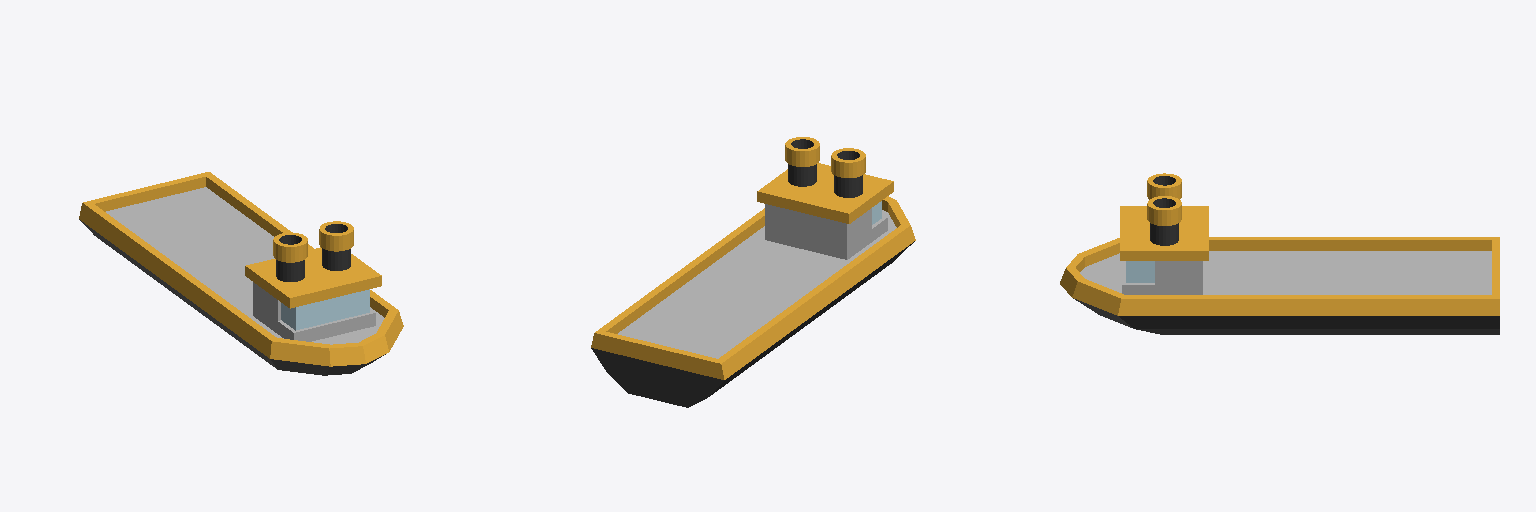
Rendered from watercraftPack_005.obj.
3 renders of one model, left to right at view 1: azimuth 30°, elevation 25°; view 2: azimuth 150°, elevation 25°; view 3: azimuth 270°, elevation 25°, orthographic.
Visible parts, largest first — view 1: Mesh1 Group1 Model; view 2: Mesh1 Group1 Model; view 3: Mesh1 Group1 Model.
Boxes of the visible parts, <box> form: Mesh1 Group1 Model: <box>79,172,403,375</box>; Mesh1 Group1 Model: <box>591,137,915,407</box>; Mesh1 Group1 Model: <box>1060,173,1499,334</box>.
Size of the model in its own units: 3.69 by 3.38 by 10.55.